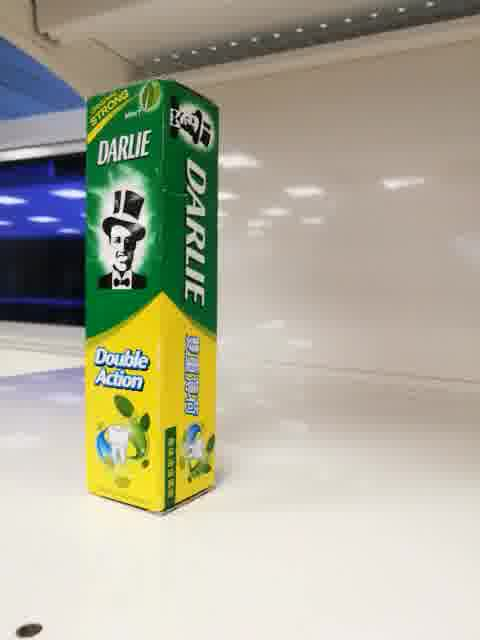toothpaste: (86, 78, 219, 519)
